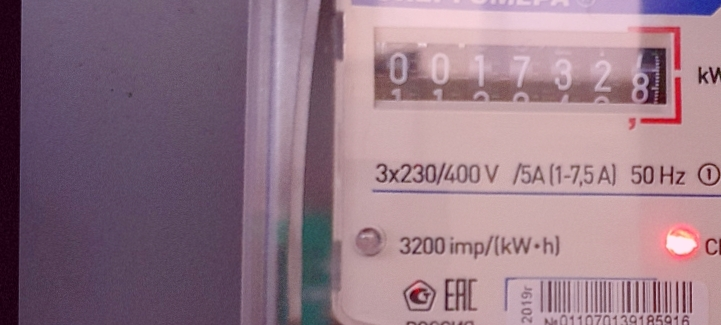0: (388, 49, 411, 86), (430, 51, 450, 85)
1: (473, 51, 488, 87)
2: (591, 58, 613, 94)
3: (552, 56, 575, 92)
7: (509, 52, 533, 89)
8: (629, 70, 649, 105)
screen: (363, 24, 687, 127)
